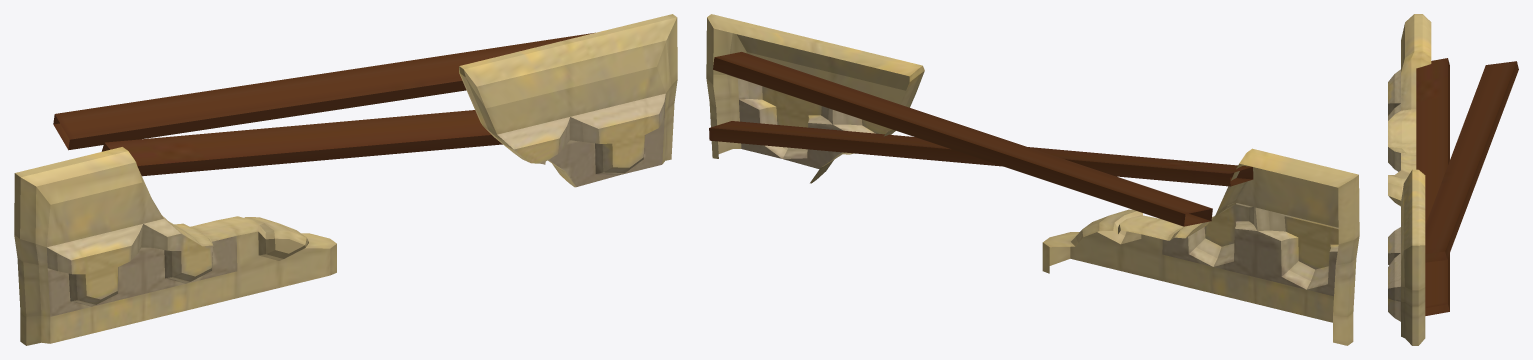
Rendered from Madeira.fbx.
3 views of the same model, side by side, from view 1: azimuth 30°, elevation 25°; view 2: azimuth 150°, elevation 25°; view 3: azimuth 270°, elevation 25° (orthographic). The views are drawn at different scales.
Parts seen in each view (by area): view 1: Plataforma_Madeira; view 2: Plataforma_Madeira; view 3: Plataforma_Madeira.
Part boxes in pixels (box(x1,y1,x2,y2)): Plataforma_Madeira: box(14, 14, 677, 345); Plataforma_Madeira: box(706, 14, 1359, 345); Plataforma_Madeira: box(1388, 14, 1518, 345).
Size of the model in its own units: 135 by 33.79 by 32.09.
Materials: 1 (1 with a texture image).
